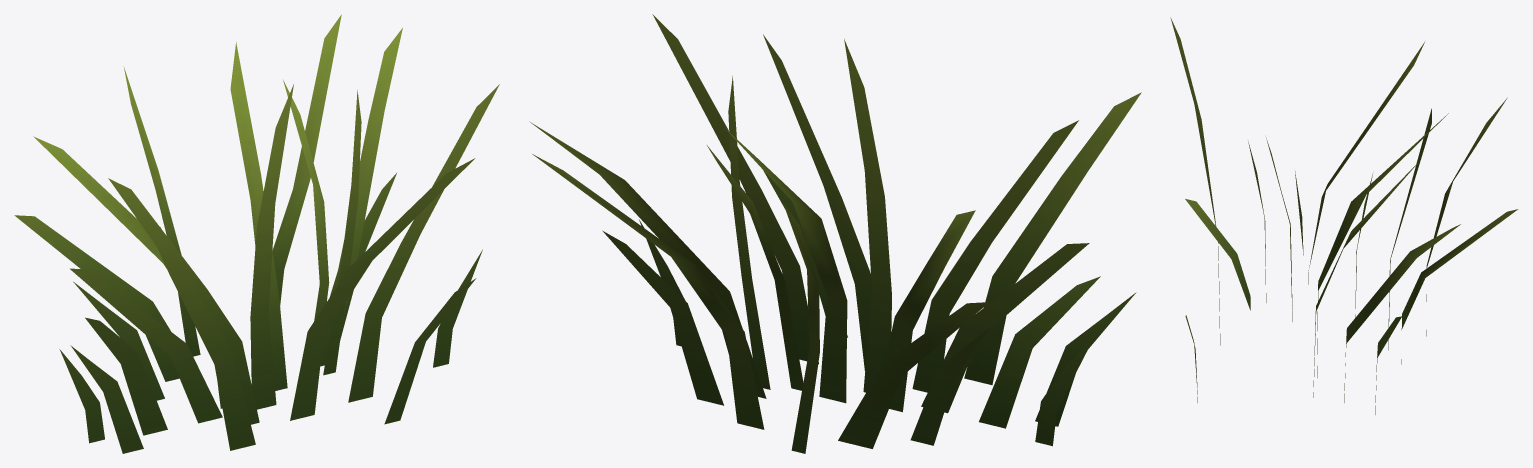
File: grass.glb
The picture shows the model from 3 angles, left to right: view 1: azimuth 30°, elevation 25°; view 2: azimuth 150°, elevation 25°; view 3: azimuth 270°, elevation 25°; orthographic projection. The views are drawn at different scales.
Parts seen in each view (by area): view 1: Grass_Large; view 2: Grass_Large; view 3: Grass_Large.
Boxes of the visible parts, bbox=[...] form: Grass_Large: bbox=[14, 14, 499, 453]; Grass_Large: bbox=[529, 14, 1141, 453]; Grass_Large: bbox=[1170, 17, 1518, 414].
Size of the model in its own units: 0.7085 by 0.4851 by 0.498.
Materials: 1 (1 with a texture image).
